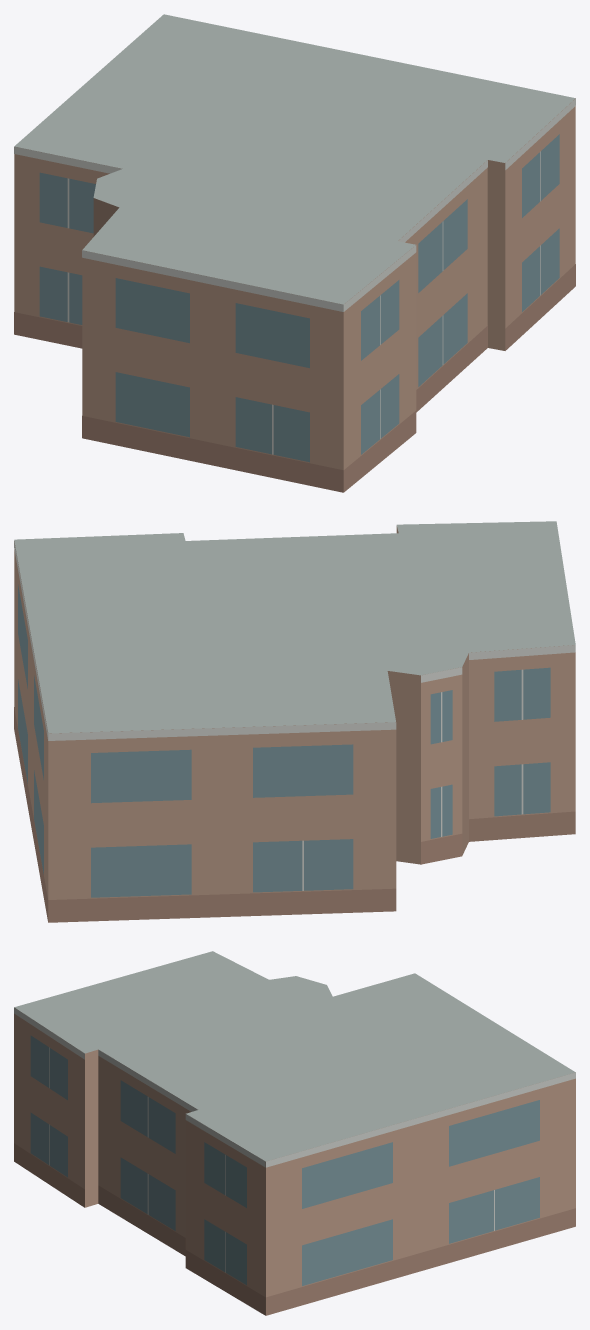
The model's file is survey-upis-32913149.glb.
3 renders of one model, top to bottom at view 1: azimuth 30°, elevation 25°; view 2: azimuth 150°, elevation 25°; view 3: azimuth 270°, elevation 25°, orthographic. The views are drawn at different scales.
Parts seen in each view (by area): view 1: survey-upis-32913149.tmp; view 2: survey-upis-32913149.tmp; view 3: survey-upis-32913149.tmp.
Part boxes in pixels (x1=…): survey-upis-32913149.tmp: x1=14, y1=14, x2=575, y2=492; survey-upis-32913149.tmp: x1=14, y1=521, x2=575, y2=922; survey-upis-32913149.tmp: x1=14, y1=951, x2=575, y2=1315.
Bounding box in the file's own units: 17.86 × 6.1 × 20.15.
